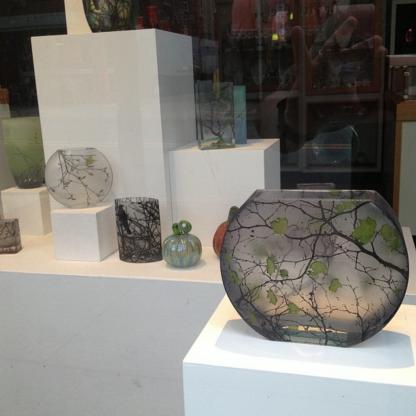vase: (218, 185, 408, 346), (44, 146, 113, 210), (0, 114, 46, 188), (113, 193, 160, 264), (0, 216, 22, 254)
